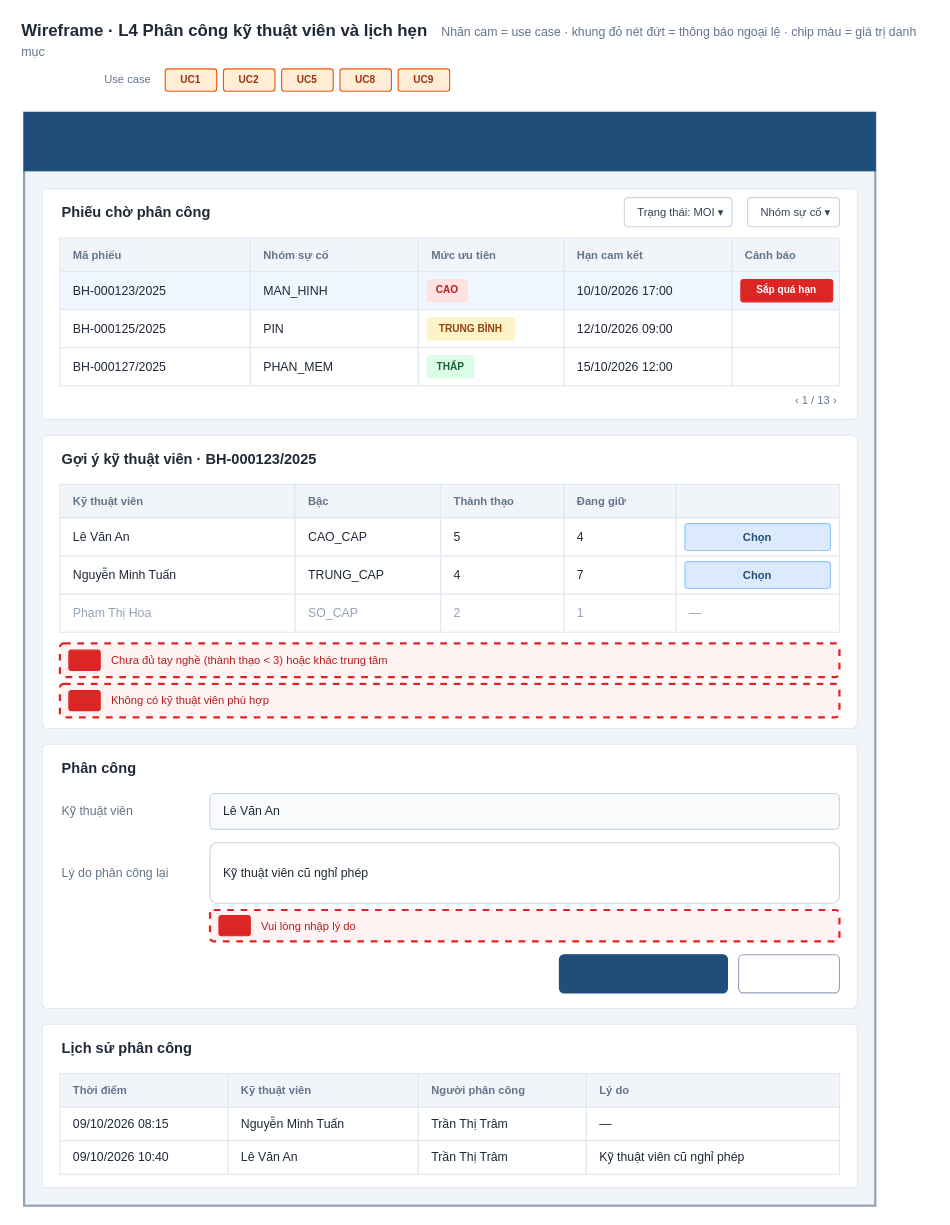
Image size: 950x1225. Some labels were removed from this diagram. The shapes that lost their labels are listed below. From the top down, each one's centre as x and y in pixels, then its label:
[449,141]: M1 · Phân công kỹ thuật viên FR1, FR2, FR4, FR5, FR7, FR9
[84,659]: E1
[84,700]: E2
[234,925]: E5
[642,973]: Xác nhận phân công
[788,973]: Hủy
